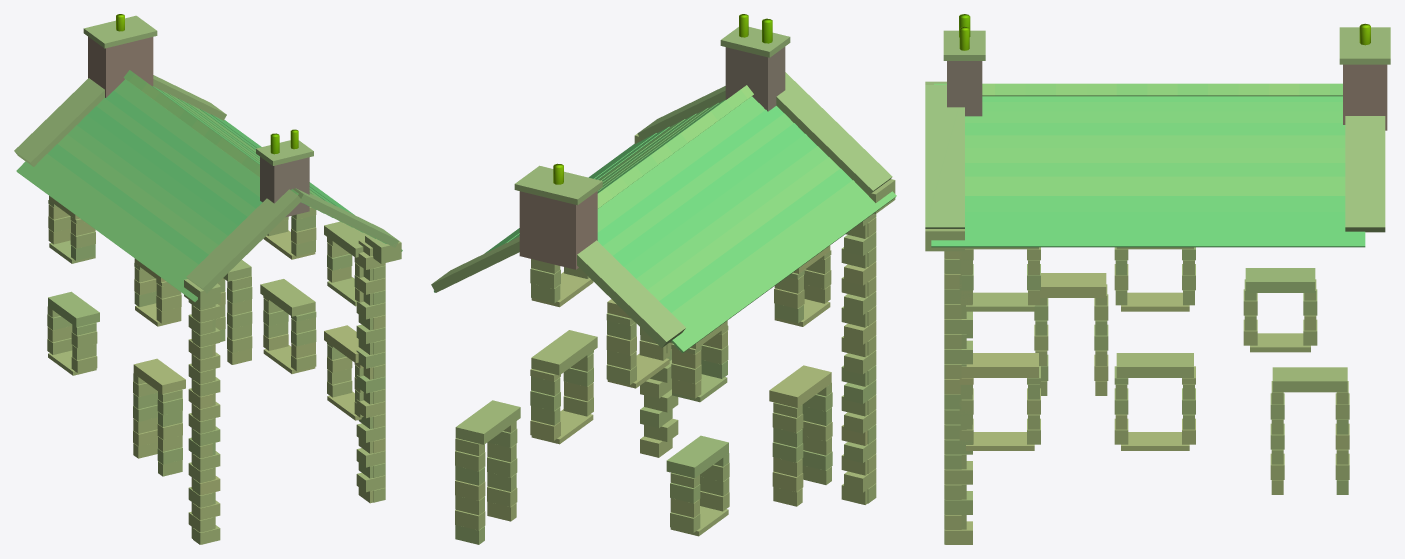
The model's file is SM_Bld_099_Stone.glb.
The picture shows the model from 3 angles, left to right: view 1: azimuth 30°, elevation 25°; view 2: azimuth 150°, elevation 25°; view 3: azimuth 270°, elevation 25°; orthographic projection. The views are drawn at different scales.
Visible parts, largest first — view 1: SM_Bld_099_Stone; view 2: SM_Bld_099_Stone; view 3: SM_Bld_099_Stone.
Part boxes in pixels (x1,y1,x2,y2): SM_Bld_099_Stone: (14, 14, 402, 544); SM_Bld_099_Stone: (431, 14, 896, 544); SM_Bld_099_Stone: (925, 14, 1390, 544).
Size of the model in its own units: 5.31 by 9.32 by 8.41.
